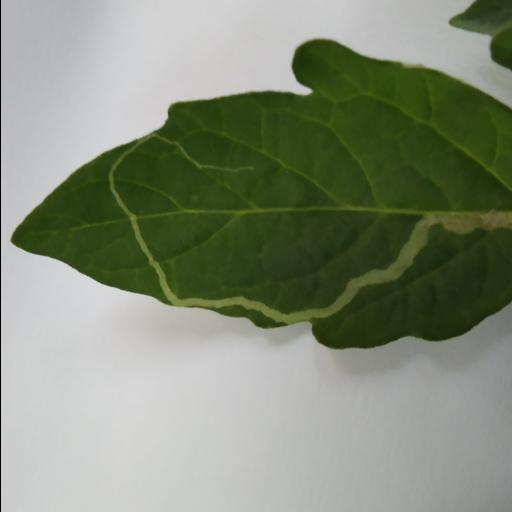disease_tomato: (10, 33, 512, 353)
